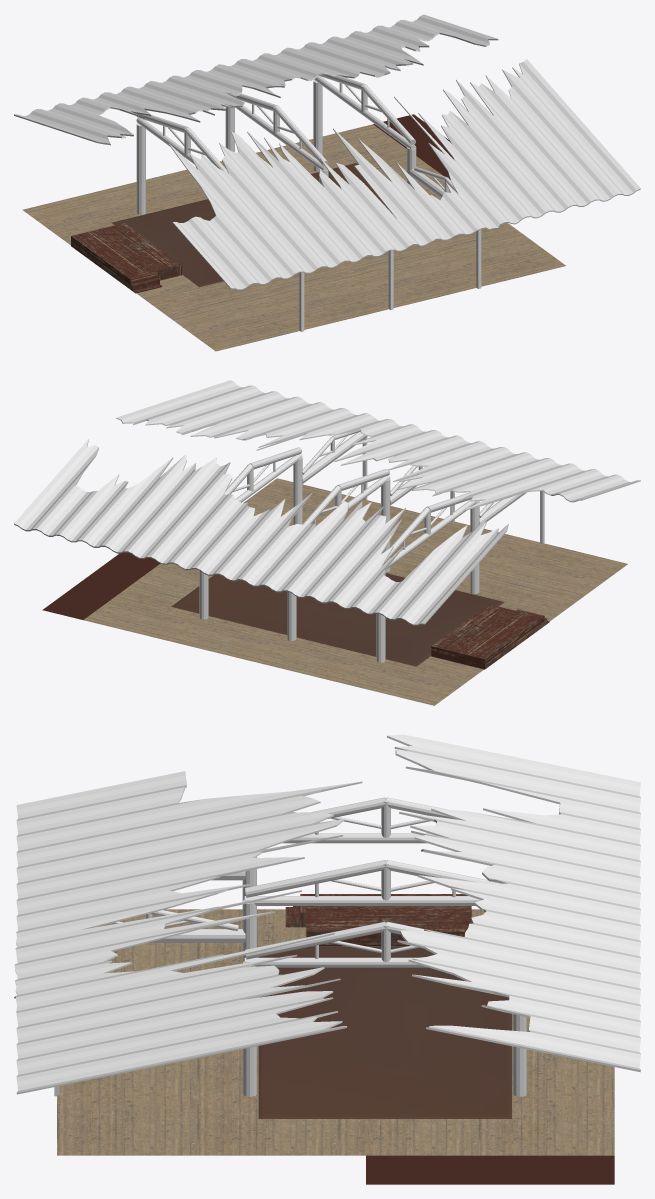
Rendered from cenario.fbx.
3 views of the same model, one above another, from view 1: azimuth 30°, elevation 25°; view 2: azimuth 150°, elevation 25°; view 3: azimuth 270°, elevation 25° (orthographic). The views are drawn at different scales.
Visible parts, largest first — view 1: Plane, chao.010, Plane.001, chao.002, Cube.017, chao.012, Cylinder.025, Cylinder.039, Cylinder.007, Cylinder.038, Cylinder.040, Cylinder.008; view 2: Plane.001, chao.010, Plane, Cube.017, chao.002, chao.012, Cylinder.017, Cylinder.026, Cylinder.037, Cylinder.039, Cylinder.024, Cylinder.025 (+2 smaller); view 3: Plane, Plane.001, chao.010, Cube.017, chao.012, chao.002, Cylinder.007, Cylinder.039, Cylinder.008, Cylinder.040, Cylinder.026, Cylinder.001 (+5 smaller).
Part boxes in pixels (x1,y1,x2,y2): Plane: [168, 59, 640, 290]; chao.010: [22, 124, 565, 351]; Plane.001: [14, 14, 498, 145]; chao.002: [71, 223, 181, 293]; Cube.017: [111, 163, 389, 286]; chao.012: [373, 114, 453, 179]; Cylinder.025: [136, 123, 145, 214]; Cylinder.039: [314, 75, 416, 149]; Cylinder.007: [235, 105, 327, 170]; Cylinder.038: [313, 80, 322, 171]; Cylinder.040: [362, 84, 415, 145]; Cylinder.008: [274, 106, 328, 166]; Plane.001: [14, 439, 508, 625]; chao.010: [83, 478, 627, 705]; Plane: [116, 380, 640, 510]; Cube.017: [171, 573, 504, 666]; chao.002: [431, 604, 549, 669]; chao.012: [42, 552, 159, 619]; Cylinder.017: [302, 431, 367, 483]; Cylinder.026: [385, 499, 477, 569]; Cylinder.037: [293, 457, 302, 524]; Cylinder.039: [235, 454, 302, 502]; Cylinder.024: [470, 501, 479, 593]; Cylinder.025: [376, 571, 385, 662]; Plane: [14, 771, 362, 1094]; Plane.001: [386, 734, 640, 1072]; chao.010: [57, 909, 614, 1155]; Cube.017: [258, 946, 511, 1118]; chao.012: [366, 1155, 614, 1184]; chao.002: [285, 894, 471, 946]; Cylinder.007: [244, 896, 480, 905]; Cylinder.039: [244, 957, 427, 967]; Cylinder.008: [245, 860, 385, 897]; Cylinder.040: [245, 921, 385, 959]; Cylinder.026: [282, 833, 432, 843]; Cylinder.001: [148, 929, 245, 942].
Size of the model in its own units: 5426 by 1747 by 4965.
